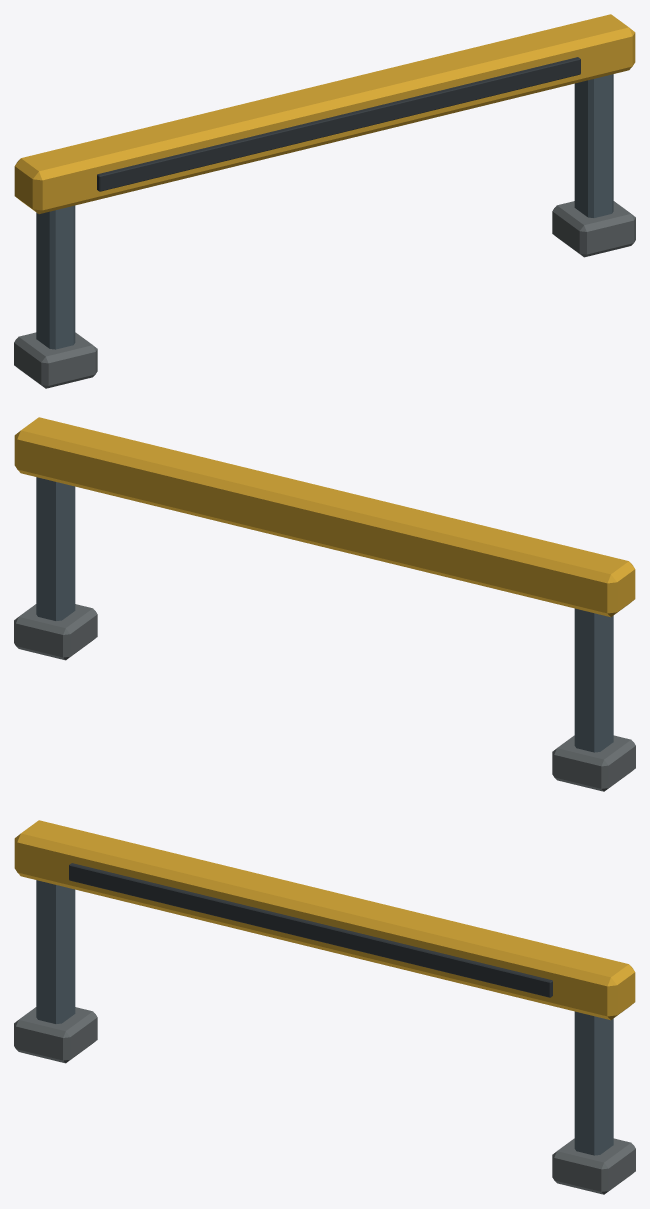
File: PRP_CITY_023_guardrail_segment.glb
The picture shows the model from 3 angles, top to bottom: view 1: azimuth 30°, elevation 25°; view 2: azimuth 150°, elevation 25°; view 3: azimuth 330°, elevation 25°; orthographic projection.
Parts seen in each view (by area): view 1: PRP_CITY_023_guardrail_segment_RenderMesh; view 2: PRP_CITY_023_guardrail_segment_RenderMesh; view 3: PRP_CITY_023_guardrail_segment_RenderMesh.
Part boxes in pixels (left/top/right/bottom): PRP_CITY_023_guardrail_segment_RenderMesh: left=14, top=14, right=635, bottom=388; PRP_CITY_023_guardrail_segment_RenderMesh: left=14, top=417, right=635, bottom=791; PRP_CITY_023_guardrail_segment_RenderMesh: left=14, top=820, right=635, bottom=1194.
Size of the model in its own units: 2.35 by 0.8 by 0.22.
